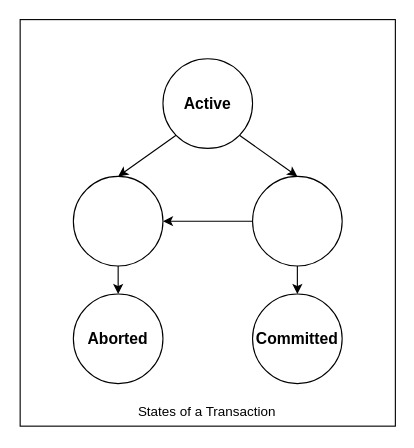
The diagram is 414 pixels wide and 448 high, and some of its shapes have lost their labels. The shapes that lost their labels are listed below. From the top down, each one's box as (x1, y1, x2, y2) in pixels, then its label:
(72, 175, 163, 266): Failed
(251, 175, 342, 266): Partially Committed
